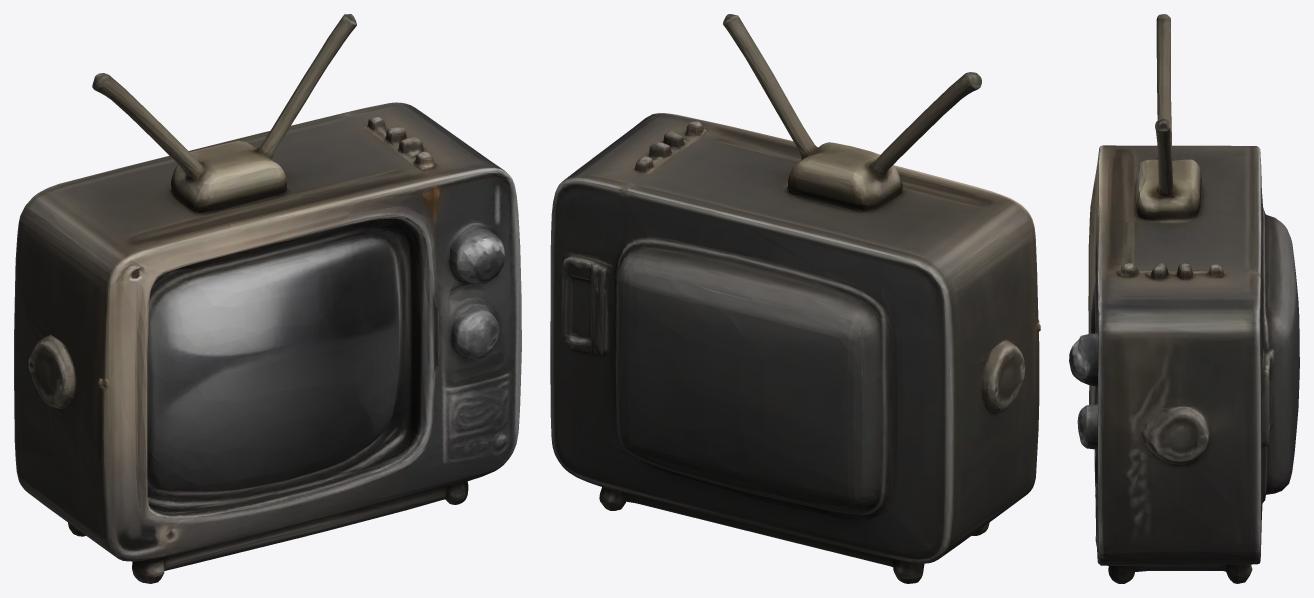
Rendered from vintage-tv.glb.
The picture shows the model from 3 angles, left to right: view 1: azimuth 30°, elevation 25°; view 2: azimuth 150°, elevation 25°; view 3: azimuth 270°, elevation 25°; orthographic projection. The views are drawn at different scales.
Parts seen in each view (by area): view 1: world; view 2: world; view 3: world.
Boxes of the visible parts, x1,y1,x2,y2 form: world: [14, 14, 521, 583]; world: [550, 14, 1040, 583]; world: [1069, 14, 1299, 583].
Bounding box in the file's own units: 0.9392 × 0.9987 × 0.4856.
1 material, 1 textured.
